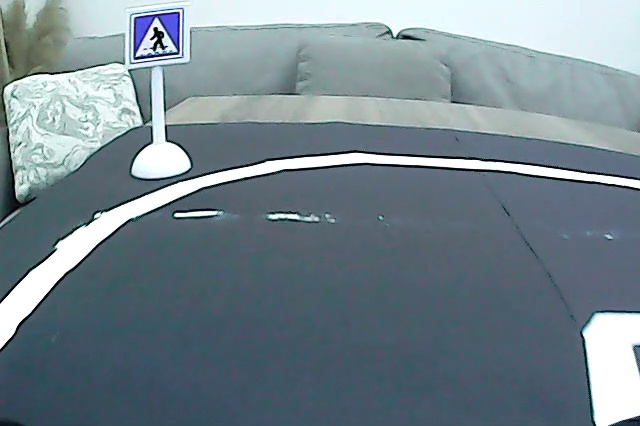pedestrian crossing: (130, 9, 184, 61)
